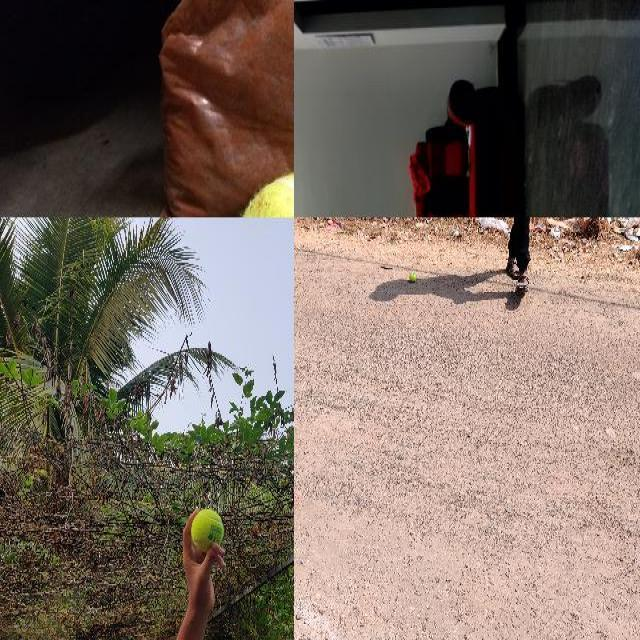tennis-ball: (191, 508, 224, 554), (409, 272, 415, 280)
